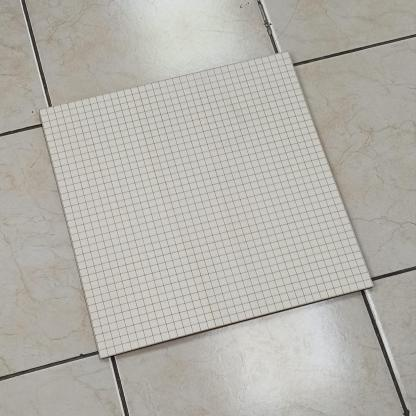grid: (27, 47, 380, 361)
